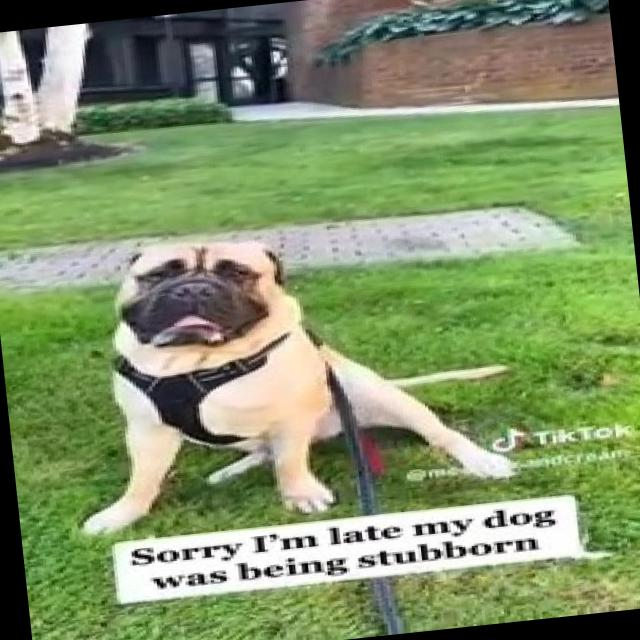dog: (80, 183, 509, 535)
